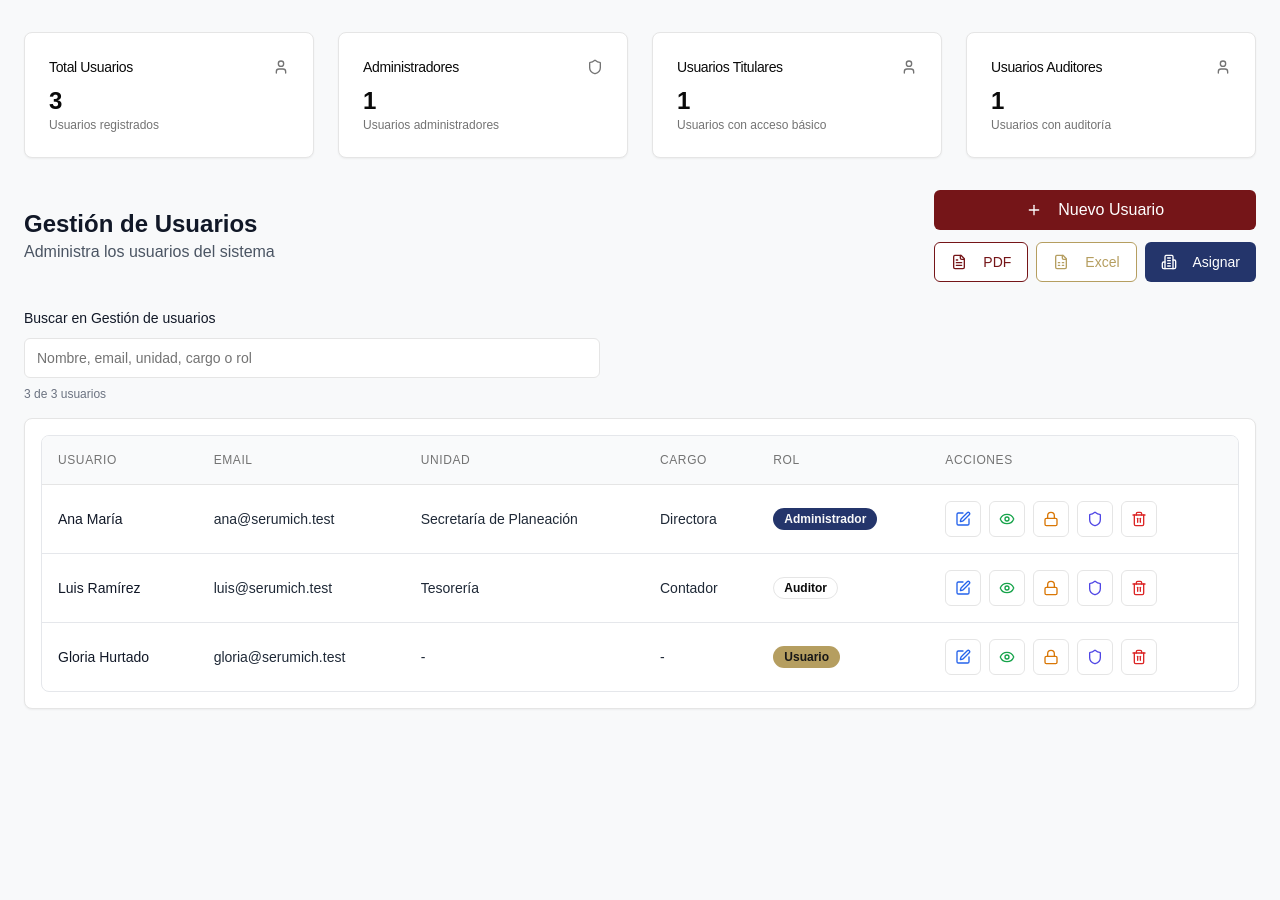
busca usuario en todas las columnas de datos
Expected: the text "Gloria Hurtado" is shown, [58,648,149,664]
Type "usuario" into the search field labelled "Buscar en Gestión de usuarios" at (312, 358), box [24,338,600,378]
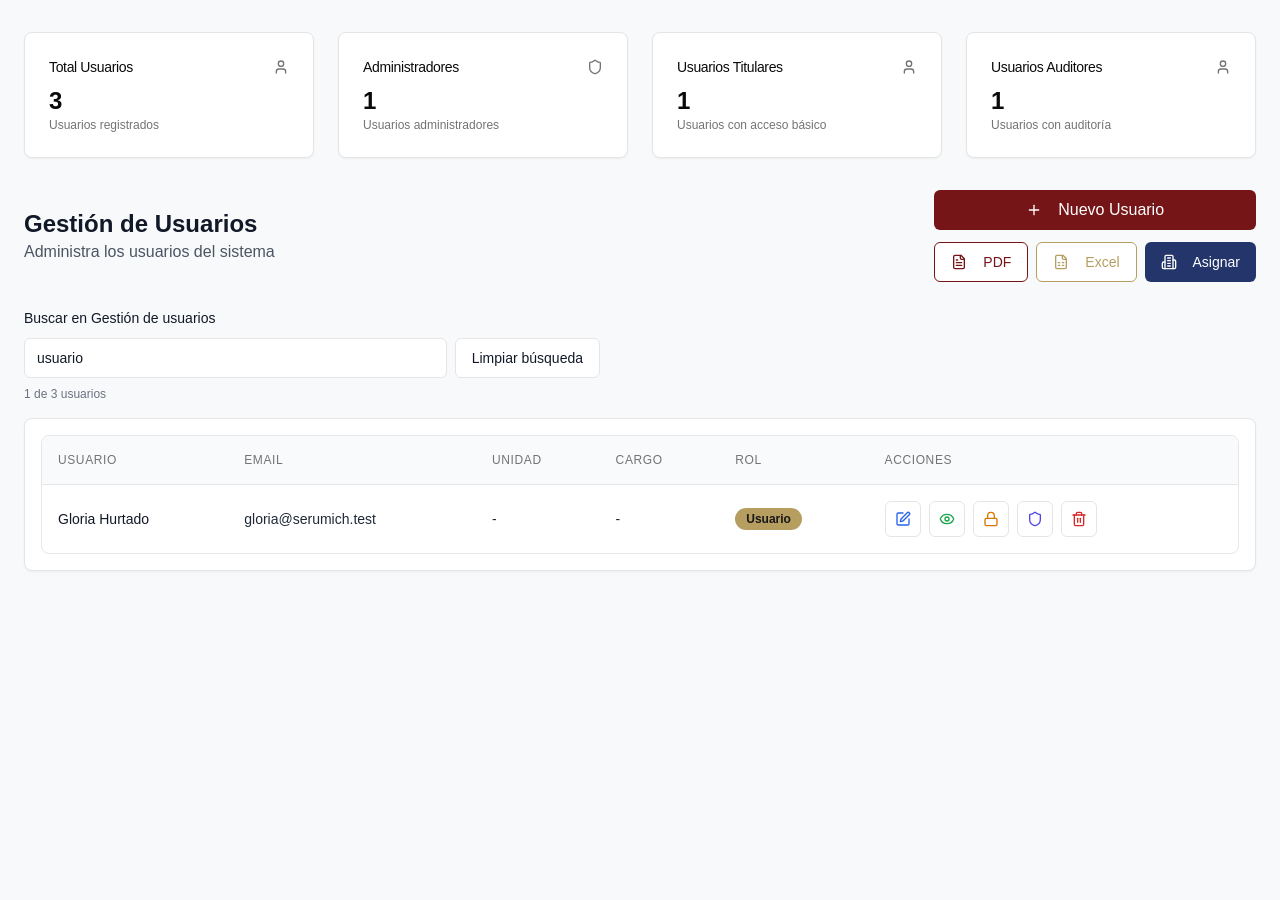
Expected: the text "Gloria Hurtado" is shown, [58,510,149,526]
Expected: the text "1 de 3 usuarios" is shown, [24,387,106,401]
